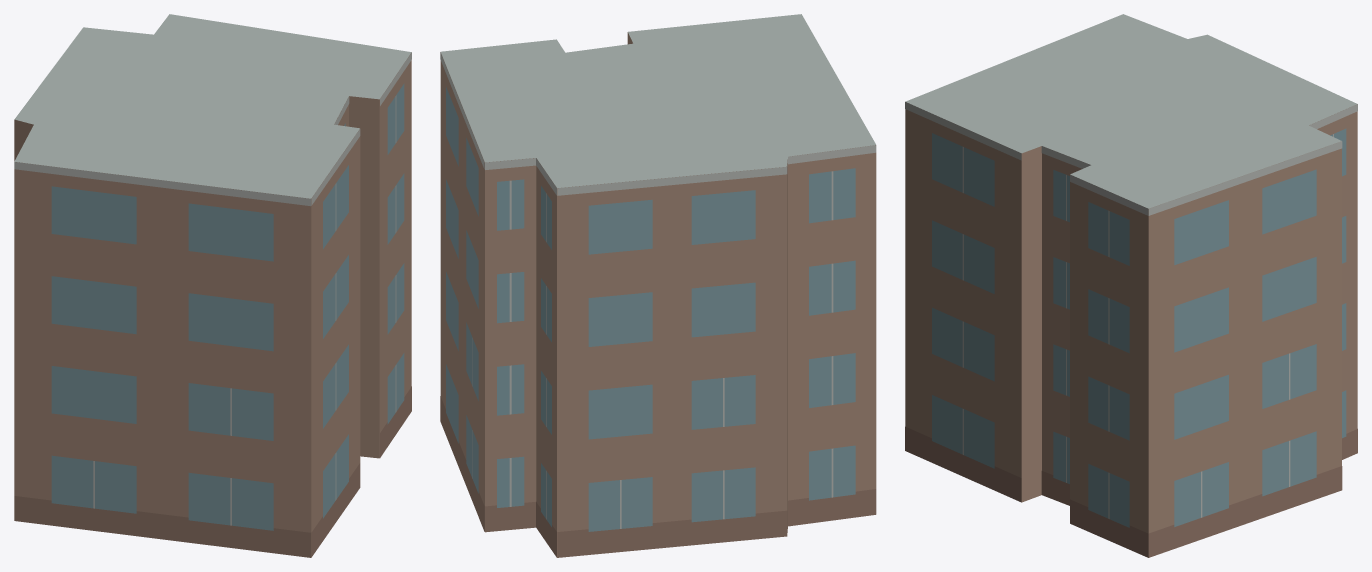
The model's file is survey-upis-32624693.glb.
The picture shows the model from 3 angles, left to right: view 1: azimuth 30°, elevation 25°; view 2: azimuth 150°, elevation 25°; view 3: azimuth 270°, elevation 25°; orthographic projection. The views are drawn at different scales.
Parts seen in each view (by area): view 1: survey-upis-32624693.tmp; view 2: survey-upis-32624693.tmp; view 3: survey-upis-32624693.tmp.
Boxes of the visible parts, x1,y1,x2,y2 form: survey-upis-32624693.tmp: [14, 14, 411, 557]; survey-upis-32624693.tmp: [440, 14, 876, 557]; survey-upis-32624693.tmp: [905, 14, 1357, 557].
Bounding box in the file's own units: 14 × 11.7 × 13.75.
